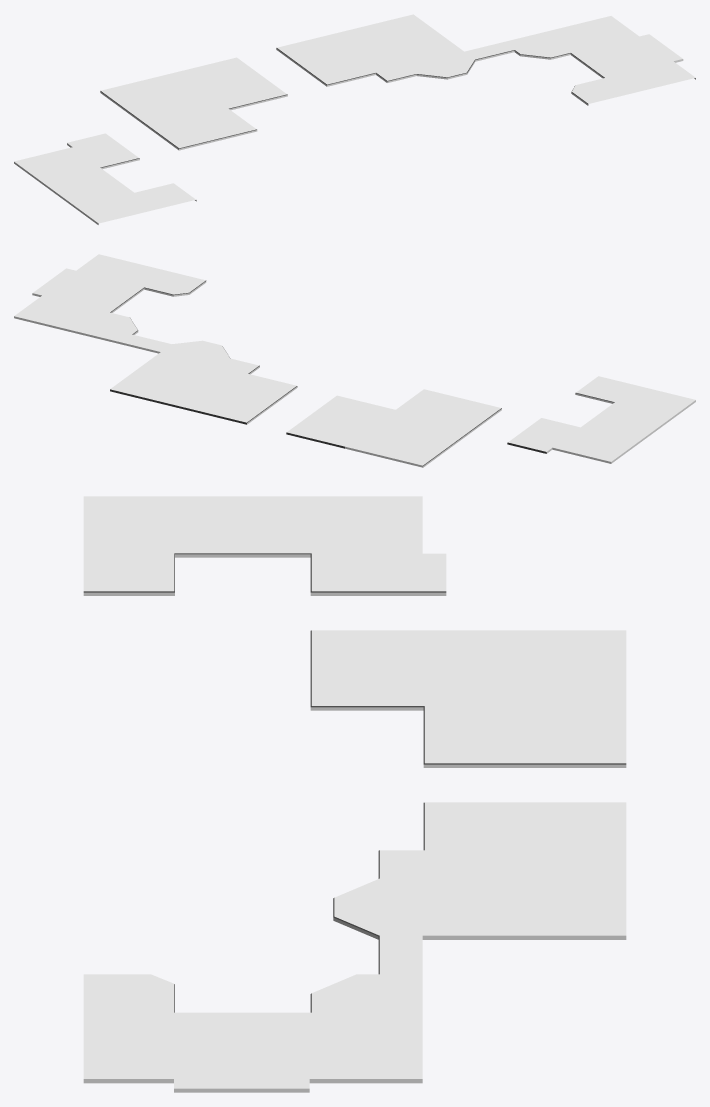
Rendered from Plaza_Curb.fbx.
3 views of the same model, one above another, from view 1: azimuth 30°, elevation 25°; view 2: azimuth 150°, elevation 25°; view 3: azimuth 270°, elevation 25° (orthographic). The views are drawn at different scales.
Visible parts, largest first — view 1: Plaza_Curb; view 2: Plaza_Curb; view 3: Plaza_Curb.
Boxes of the visible parts, x1=… form: Plaza_Curb: x1=14, y1=14, x2=695, y2=224; Plaza_Curb: x1=14, y1=254, x2=695, y2=467; Plaza_Curb: x1=83, y1=496, x2=626, y2=1092.
Size of the model in its own units: 372 by 1.2 by 144.
